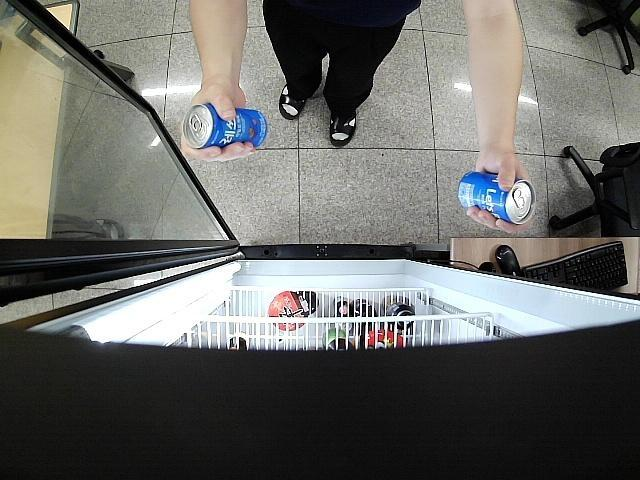15_letsbe: (456, 171, 536, 226), (182, 104, 268, 150)
